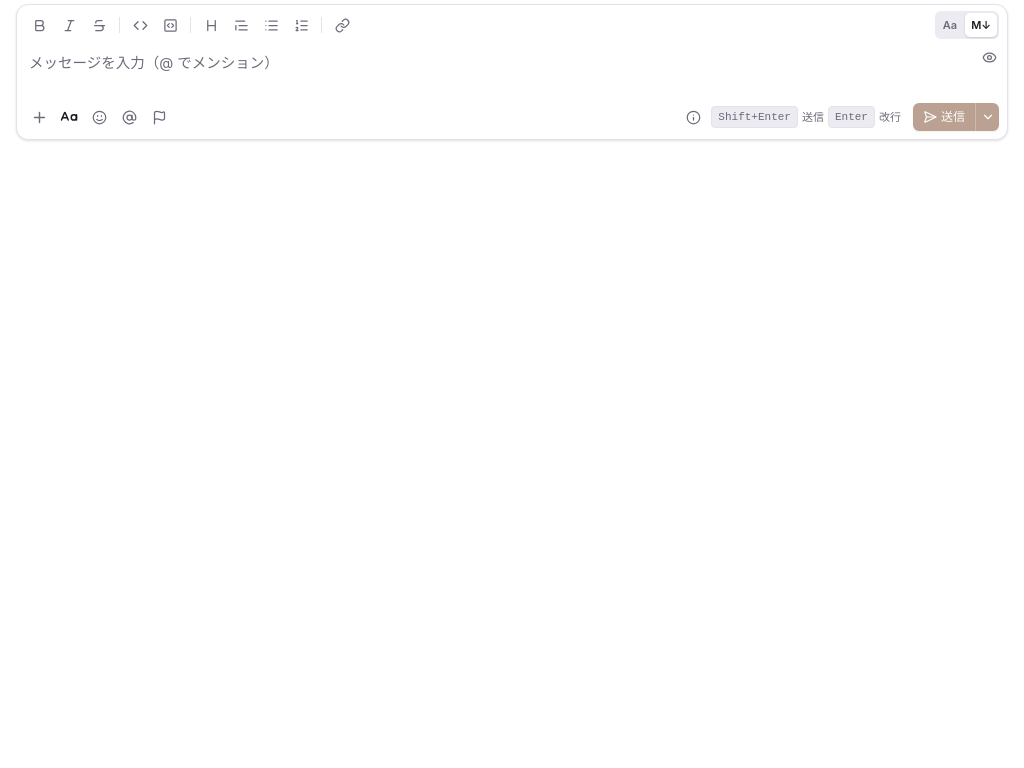
Test: /日程 (M30; a scheduling poll since M53) › `/日程` alone opens the empty scheduling form
In the text box: (494, 71) [17,39,971,103], type "/日程"
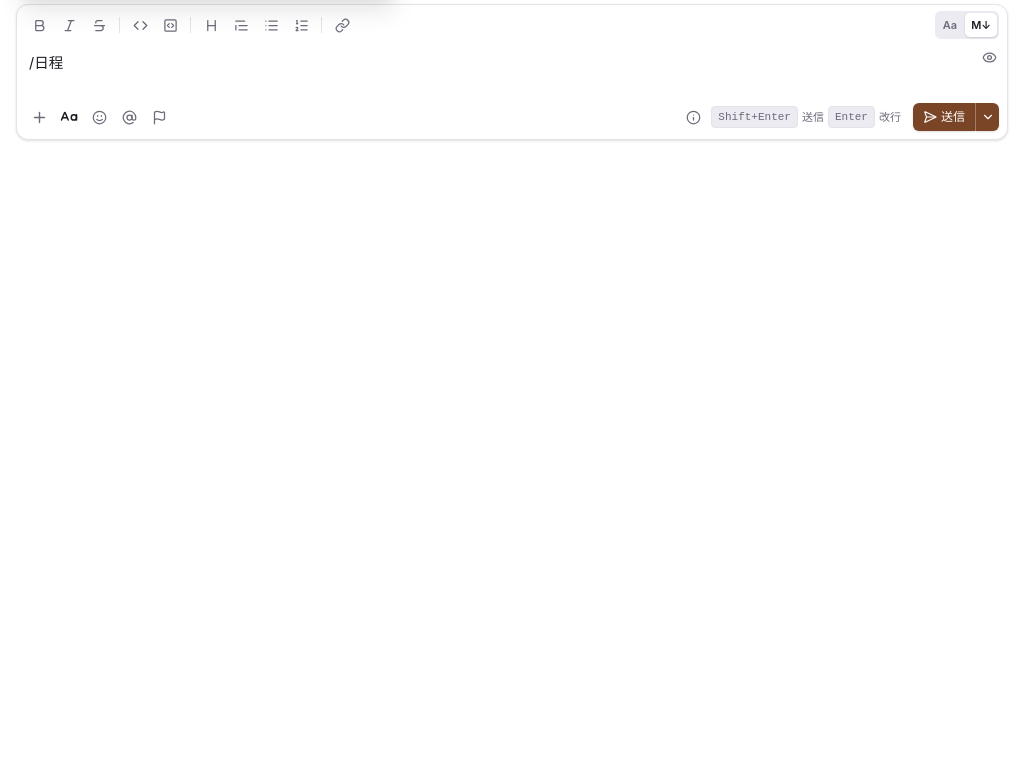
Press Enter in the text box, box [17,39,971,103]
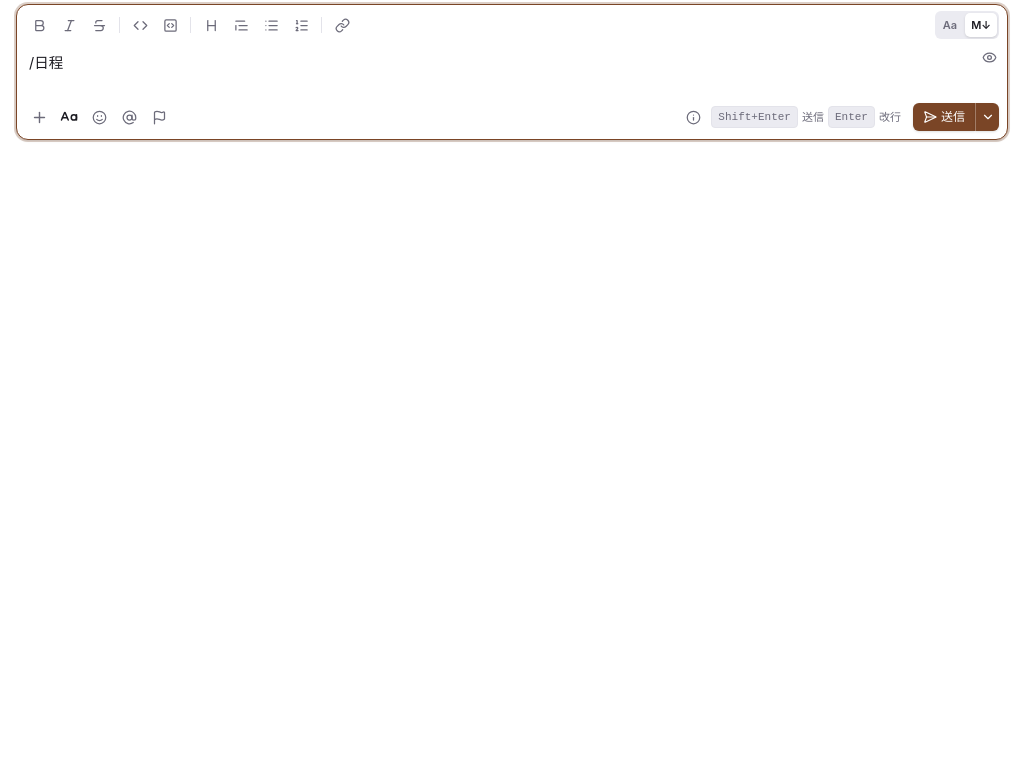
Press Enter in the text box, box [17,39,971,103]
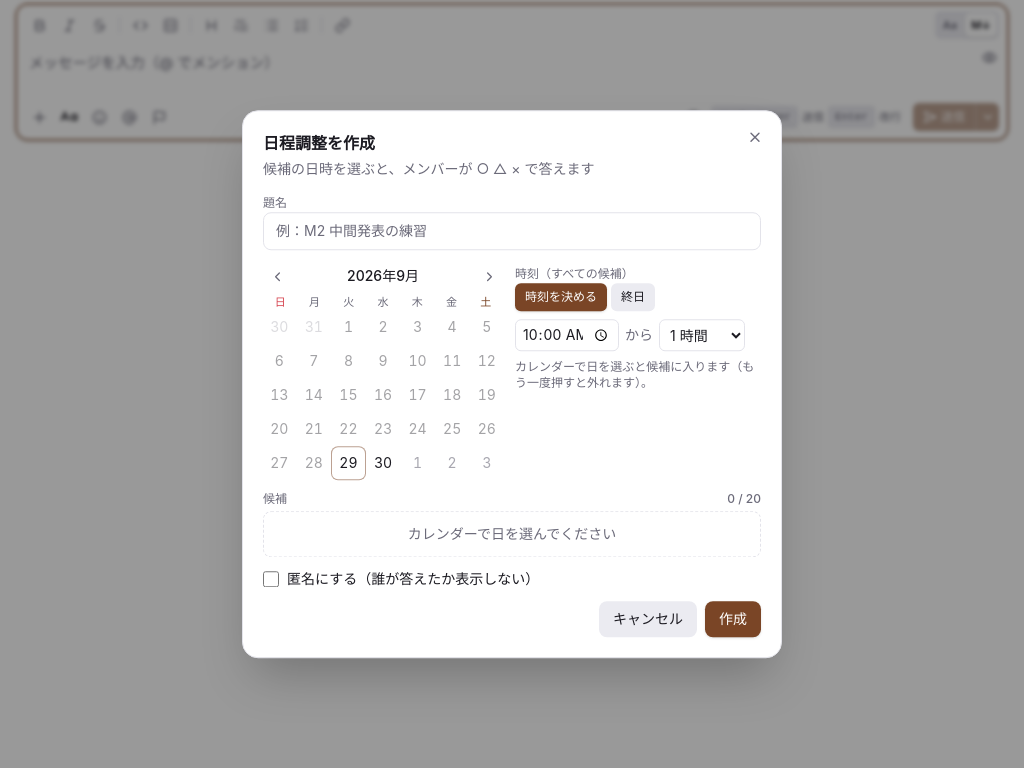
expect the dialog "日程調整を作成" is shown: met, box [242,110,782,658]
expect the text "カレンダーで日を選んでください" is shown: met, box [263,511,761,557]
